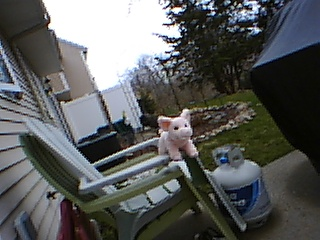piggy: (156, 107, 200, 163)
